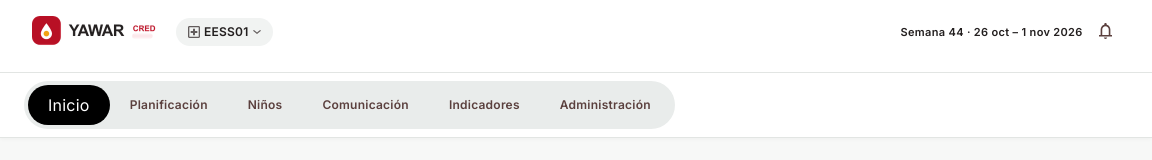
Test: Encabezado › al cambiar de establecimiento, pide la lista del nuevo y lo recuerda
The image size is (1152, 160).
Select "EESS02" in the dropdown named "Establecimiento": point(224, 32) x1=176 y1=18 x2=273 y2=46
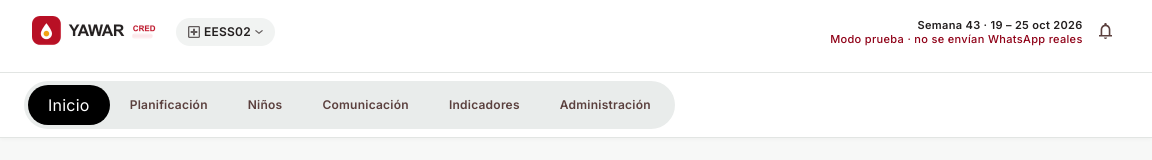
Now the text "EESS02" is shown, box x1=204 y1=24 x2=251 y2=40
